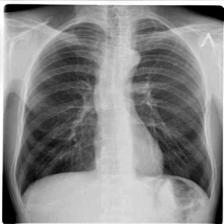tuberculosis: (9, 15, 216, 207)
